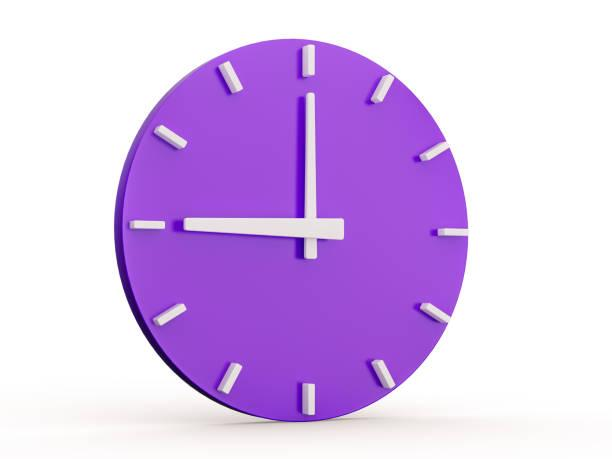clock: (109, 37, 478, 423)
